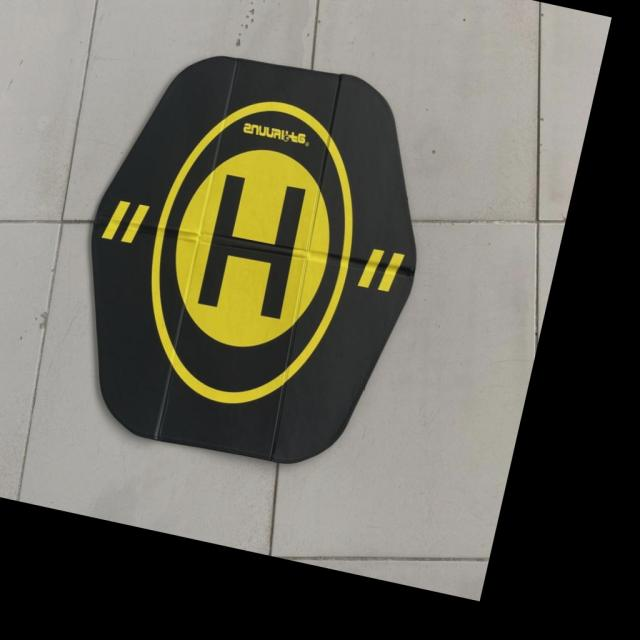helipad: (146, 92, 360, 420)
